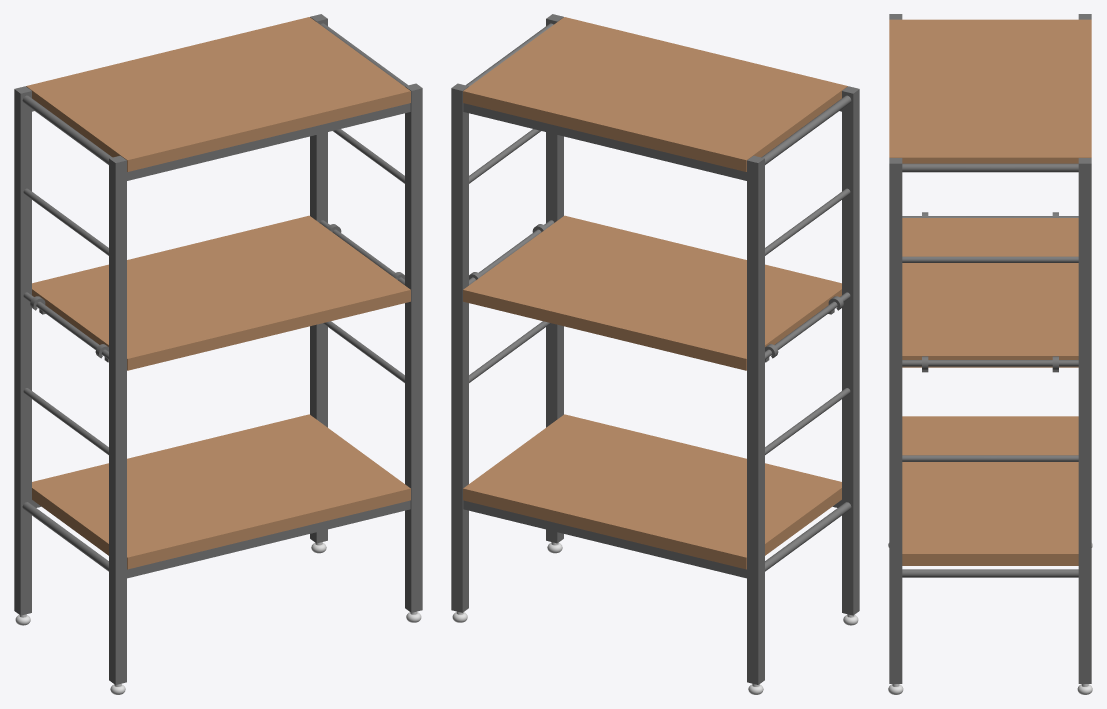
The picture shows the model from 3 angles, left to right: view 1: azimuth 30°, elevation 25°; view 2: azimuth 150°, elevation 25°; view 3: azimuth 270°, elevation 25°; orthographic projection.
Parts seen in each view (by area): view 1: Body; view 2: Body; view 3: Body.
Boxes of the visible parts, bbox=[...] form: Body: bbox=[14, 14, 422, 694]; Body: bbox=[451, 14, 859, 694]; Body: bbox=[888, 14, 1092, 694].
Bounding box in the file's own units: 0.5451 × 0.9 × 0.3131.
